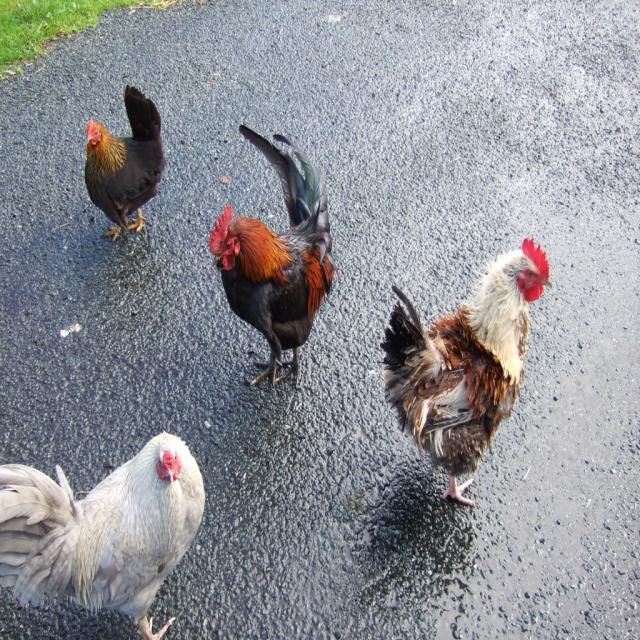Chicken: (370, 236, 544, 524), (0, 426, 205, 640), (204, 122, 336, 394), (84, 82, 168, 250)
